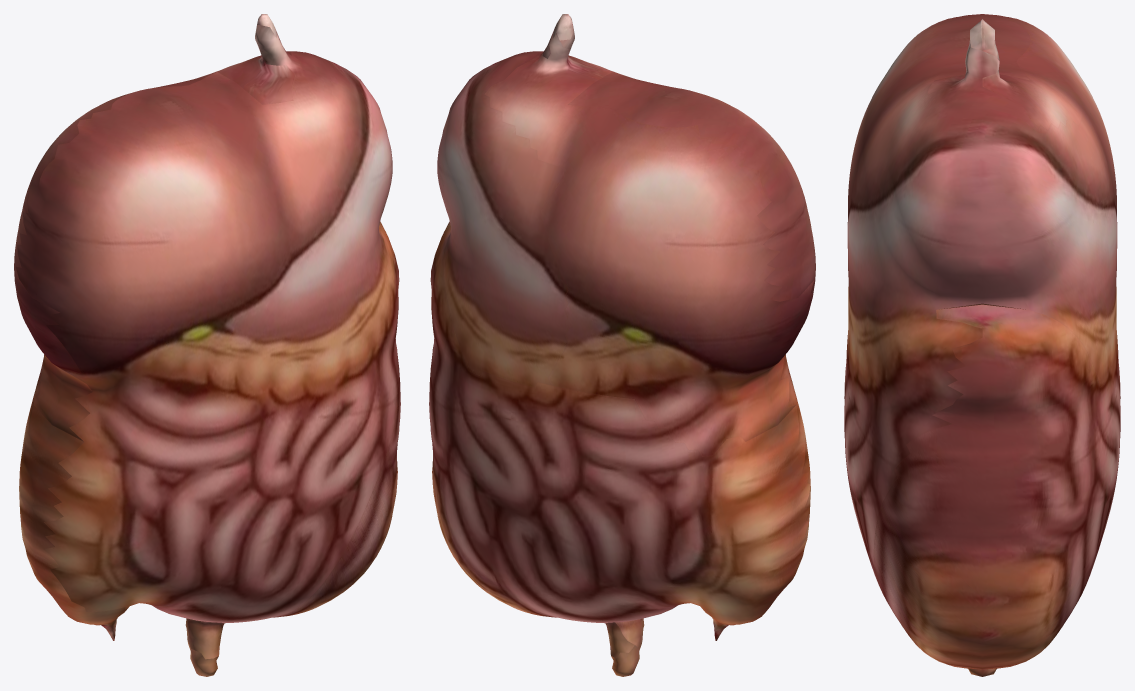
Rendered from food-pipe.glb.
3 renders of one model, left to right at view 1: azimuth 30°, elevation 25°; view 2: azimuth 150°, elevation 25°; view 3: azimuth 270°, elevation 25°, orthographic. The views are drawn at different scales.
Parts seen in each view (by area): view 1: udambu; view 2: udambu; view 3: udambu.
Part boxes in pixels (bbox=[...]): udambu: bbox=[14, 14, 400, 676]; udambu: bbox=[429, 14, 815, 676]; udambu: bbox=[844, 14, 1120, 676].
Bounding box in the file's own units: 0.3459 × 0.6 × 0.2189.
1 material, 1 textured.
